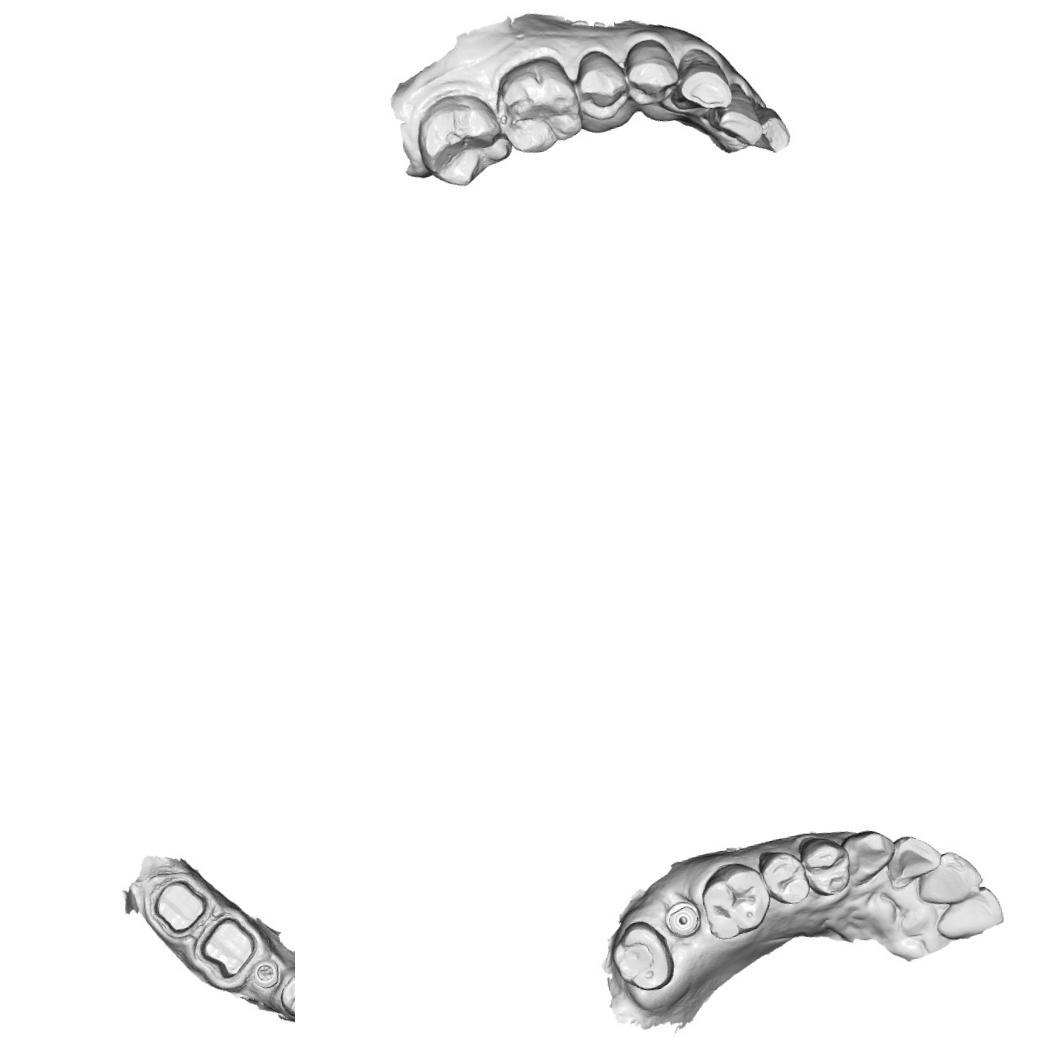canine: (666, 48, 734, 116), (839, 824, 900, 889)
crown: (193, 910, 264, 986), (148, 872, 213, 938)
implant: (662, 898, 705, 941), (250, 955, 284, 992)
incisor: (910, 846, 986, 911), (931, 883, 1008, 943), (882, 829, 946, 888), (710, 94, 766, 150), (754, 104, 796, 156)
molar: (408, 86, 514, 194), (490, 48, 588, 158), (696, 858, 775, 944), (608, 916, 678, 997)
premolar: (572, 45, 633, 123), (620, 36, 680, 112), (797, 833, 852, 900), (755, 845, 812, 909), (274, 967, 295, 1023)
